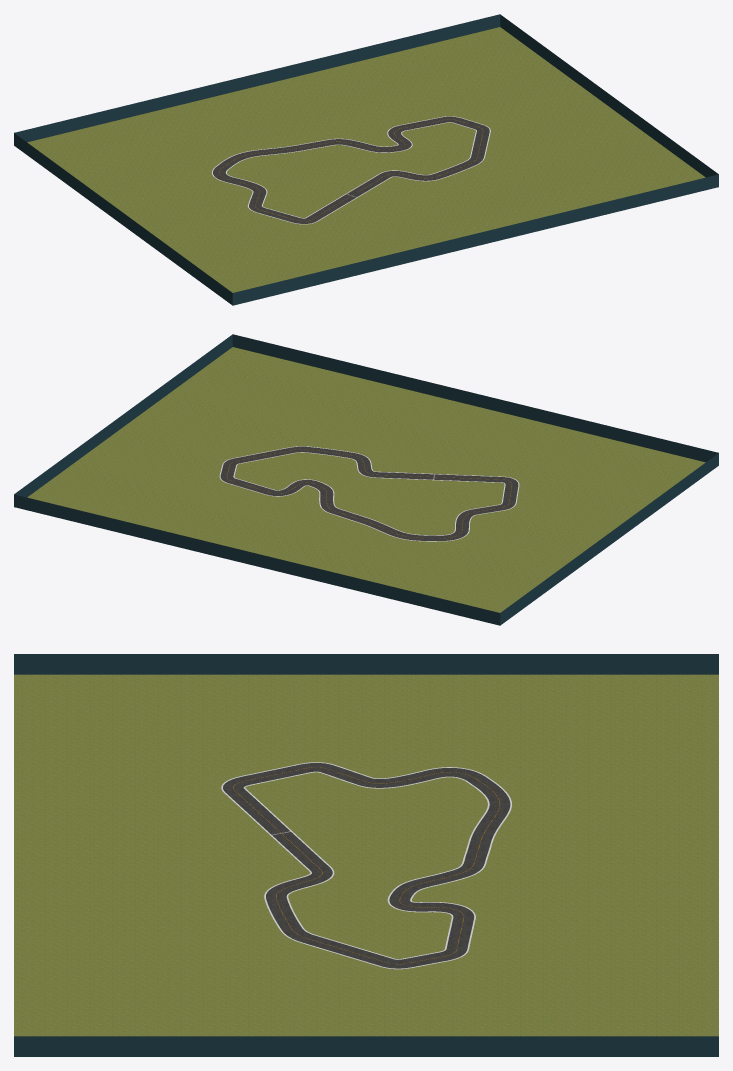
Rendered from Belille.dae.
3 renders of one model, top to bottom at view 1: azimuth 30°, elevation 25°; view 2: azimuth 150°, elevation 25°; view 3: azimuth 270°, elevation 25°, orthographic. The views are drawn at different scales.
Parts seen in each view (by area): view 1: field, wall, road, il, ol; view 2: field, wall, road, il, ol; view 3: field, wall, road, il, ol.
Part boxes in pixels (bbox=[...]): field: bbox=[27, 27, 705, 292]; wall: bbox=[14, 14, 718, 305]; road: bbox=[213, 116, 489, 223]; il: bbox=[212, 116, 490, 224]; ol: bbox=[225, 122, 476, 218]; field: bbox=[27, 347, 705, 612]; wall: bbox=[14, 334, 718, 625]; road: bbox=[220, 446, 518, 541]; il: bbox=[219, 446, 519, 541]; ol: bbox=[233, 452, 505, 535]; field: bbox=[14, 674, 718, 1036]; wall: bbox=[14, 654, 718, 1056]; road: bbox=[223, 763, 510, 968]; il: bbox=[221, 762, 511, 969]; ol: bbox=[243, 771, 489, 959].
Bounding box in the file's own units: 39.91 × 31.11 × 1.
Materials: 7 (7 with a texture image).
